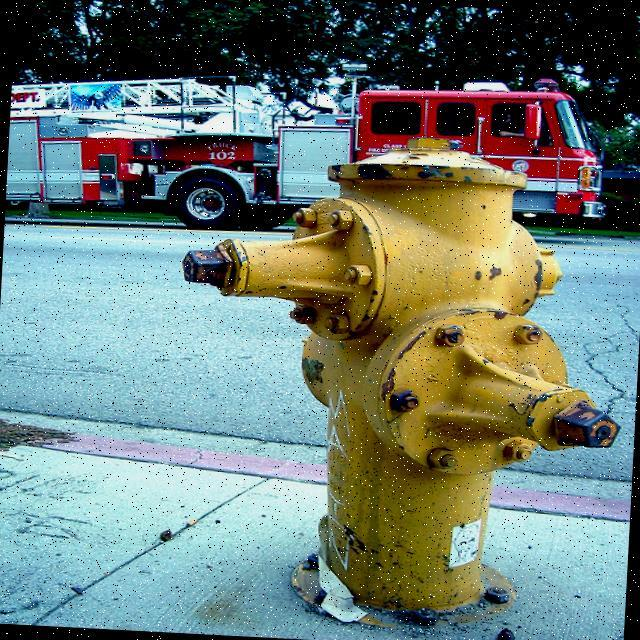fire_hydrant: (163, 123, 633, 640)
